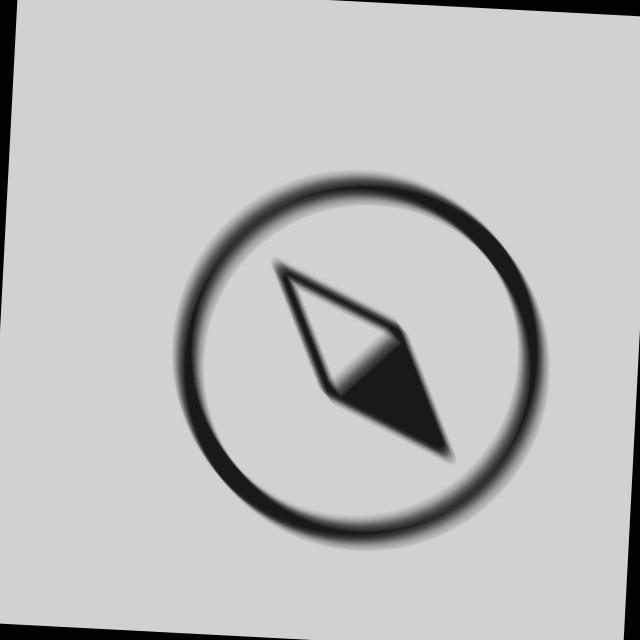compass: (156, 156, 562, 566)
